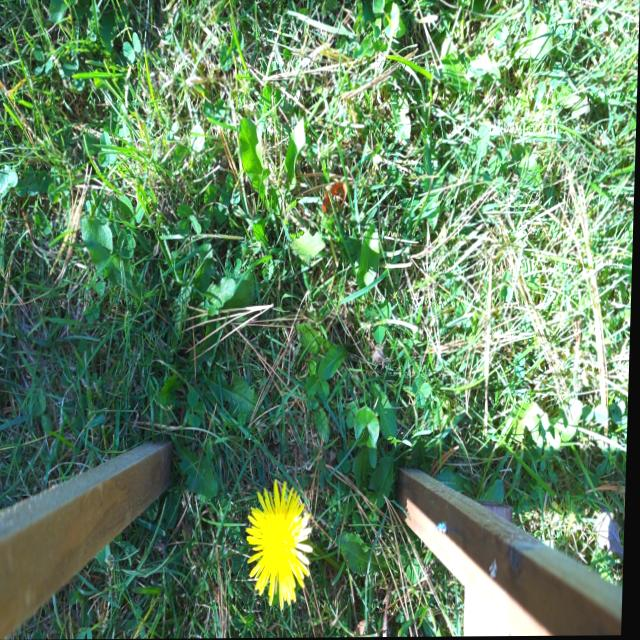base: (334, 551, 350, 581)
